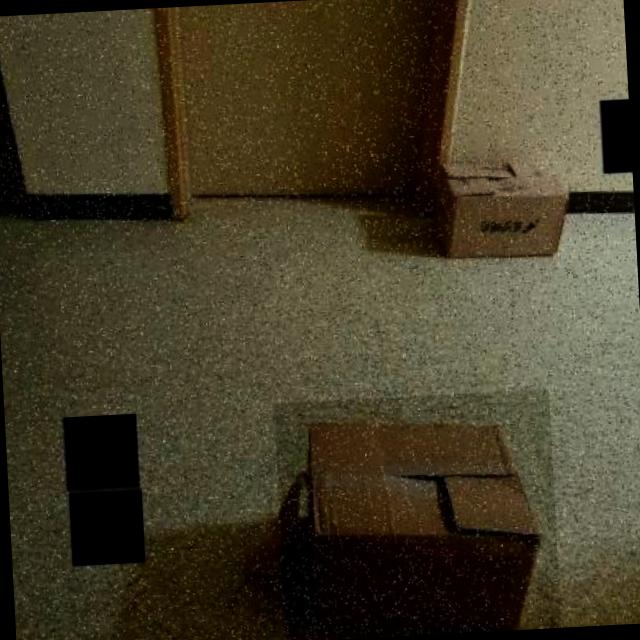box: (273, 389, 561, 640)
